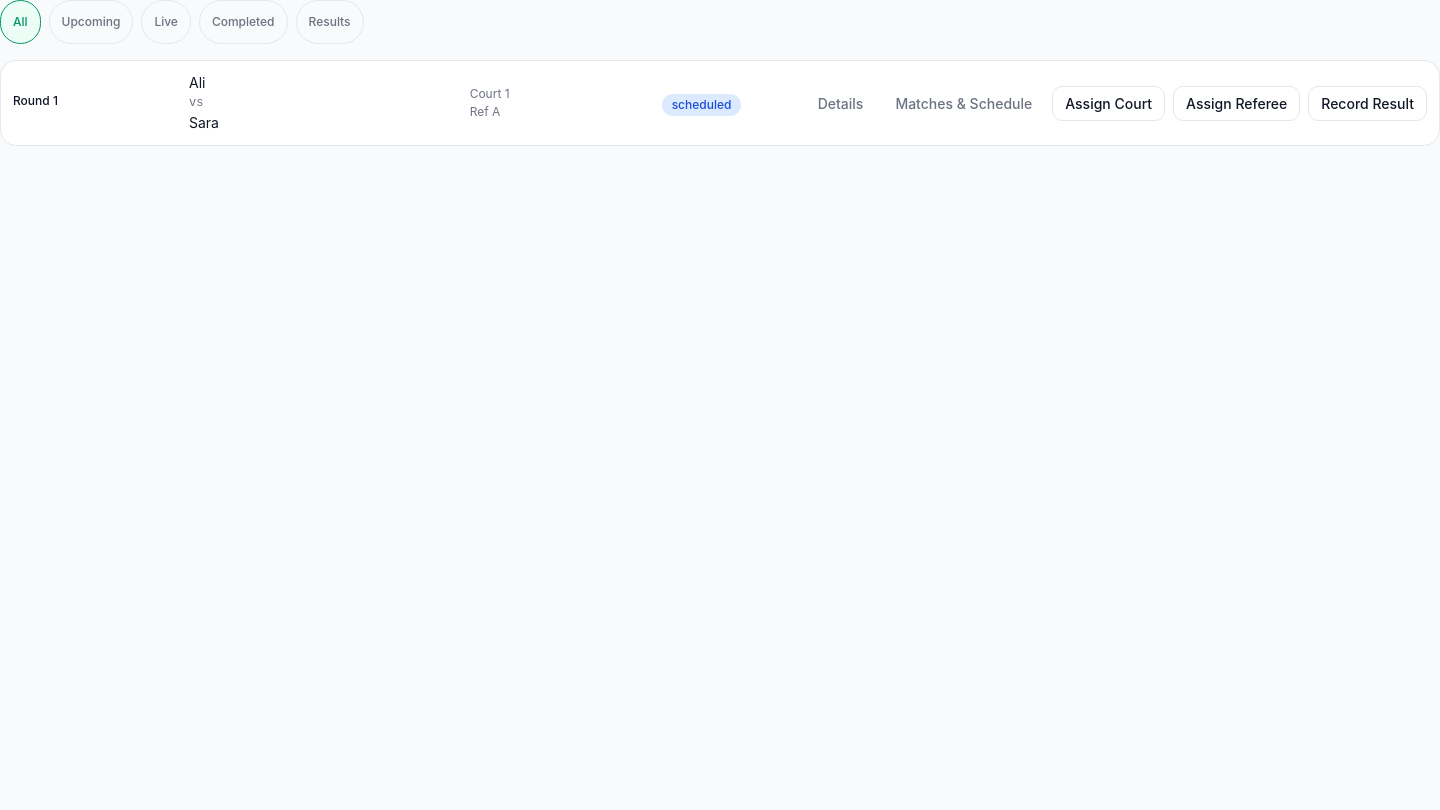
Scenario: Tournament Hub MatchesManager (Step 3C) › 19. result modal is an accessible dialog (aria-modal + Escape close)
This screenshot has width=1440, height=810.
Check: the text "Ali" is shown, box x1=189 y1=74 x2=206 y2=91
Click the button "Record Result" at (1368, 103), box x1=1308 y1=86 x2=1427 y2=120
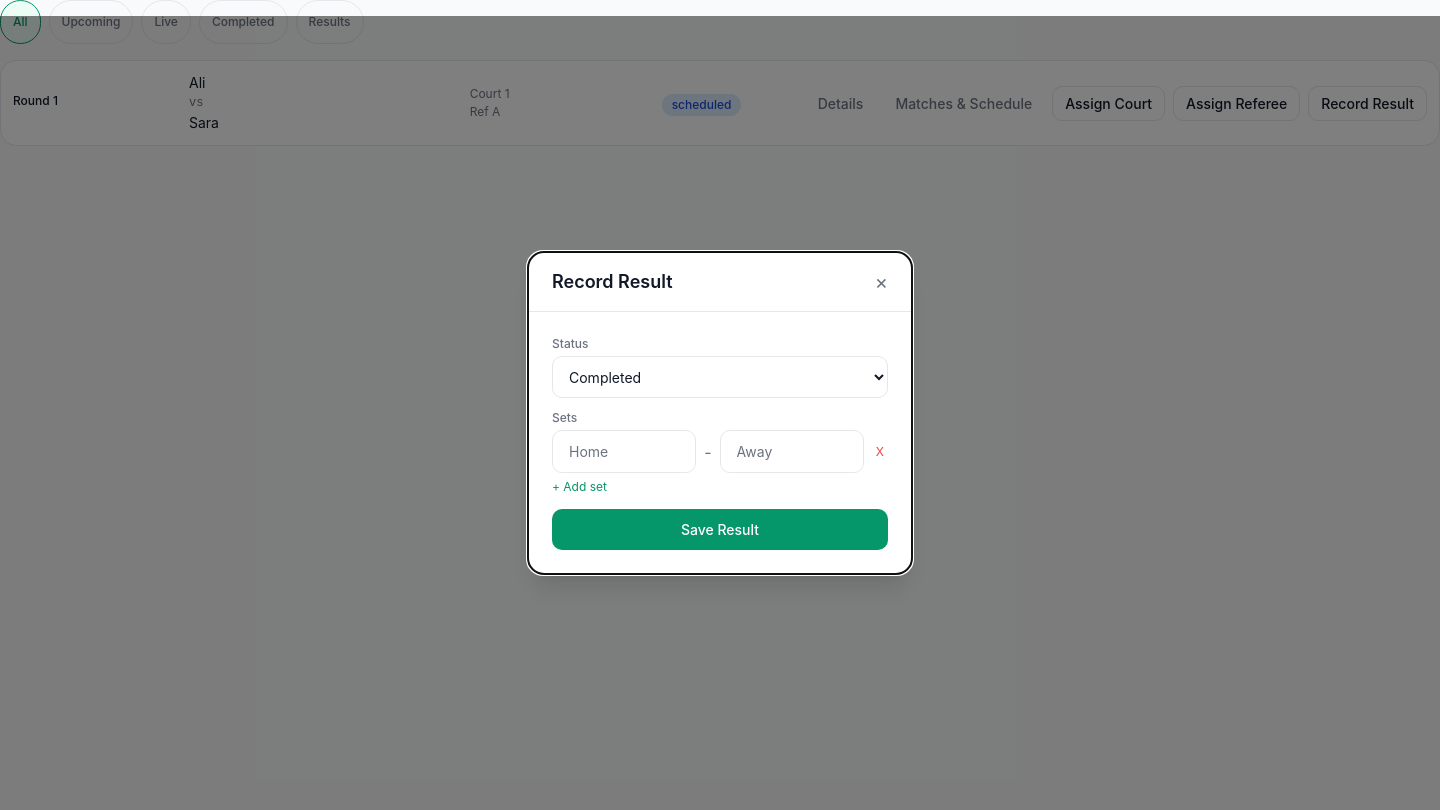
Press Escape in the dialog, box x1=528 y1=252 x2=912 y2=574
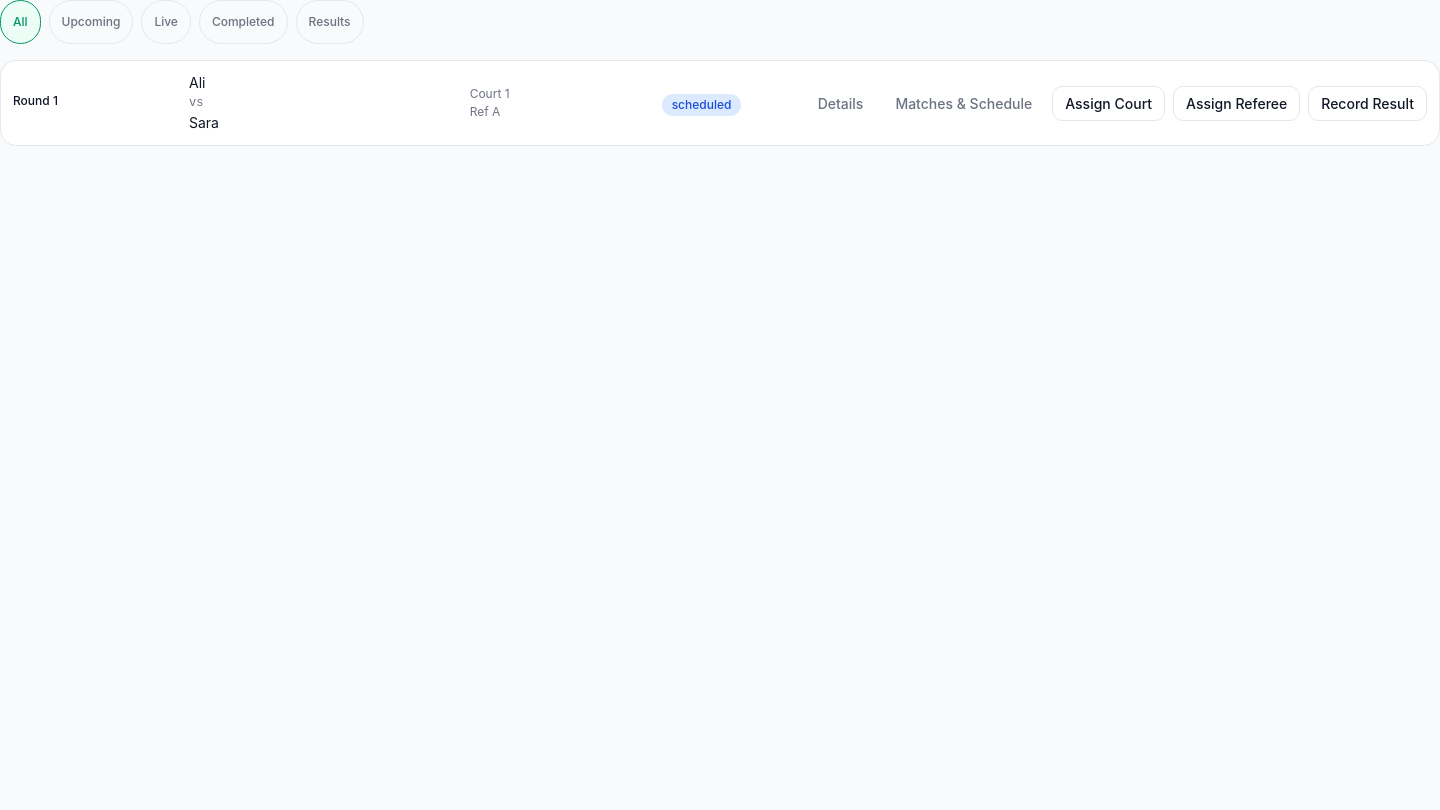
Check: the dialog is gone
